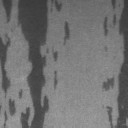red iron: (2, 0, 62, 128), (102, 0, 128, 128), (0, 34, 16, 128), (62, 21, 70, 46), (54, 70, 58, 89), (110, 0, 116, 11), (104, 45, 108, 54)
